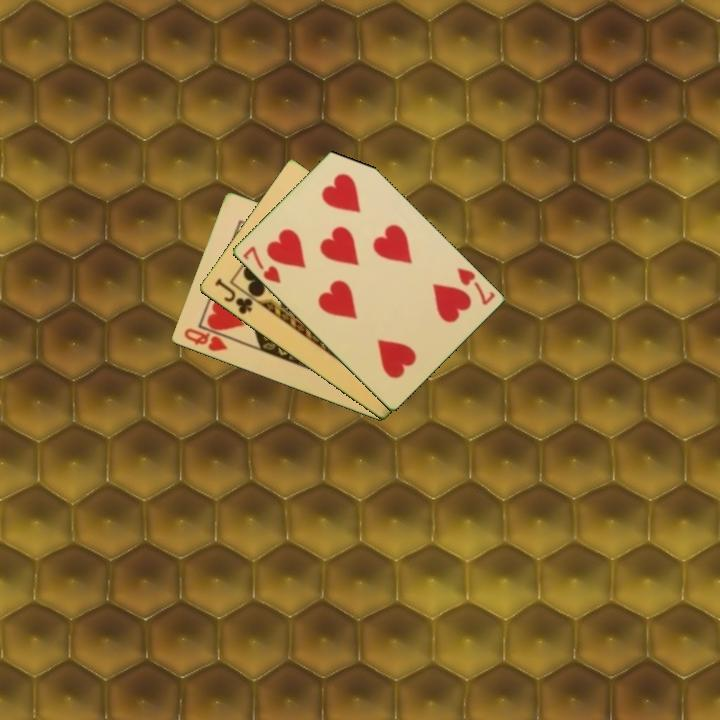7h: (239, 242, 283, 287), (453, 264, 498, 308)
Jc: (211, 275, 256, 318)
Qh: (180, 325, 230, 354)
